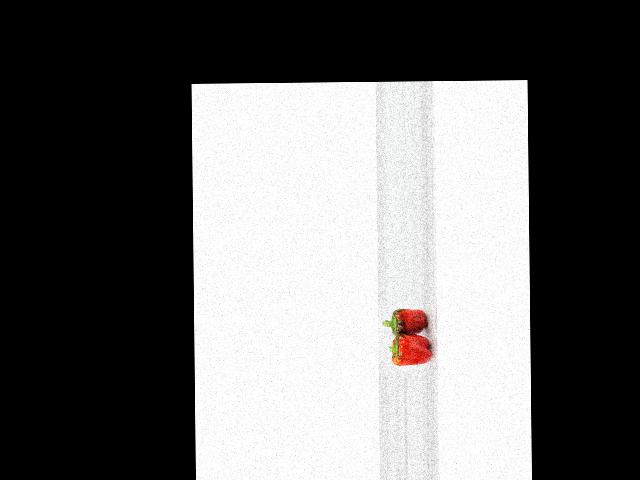bell_pepper: (386, 334, 432, 371)
